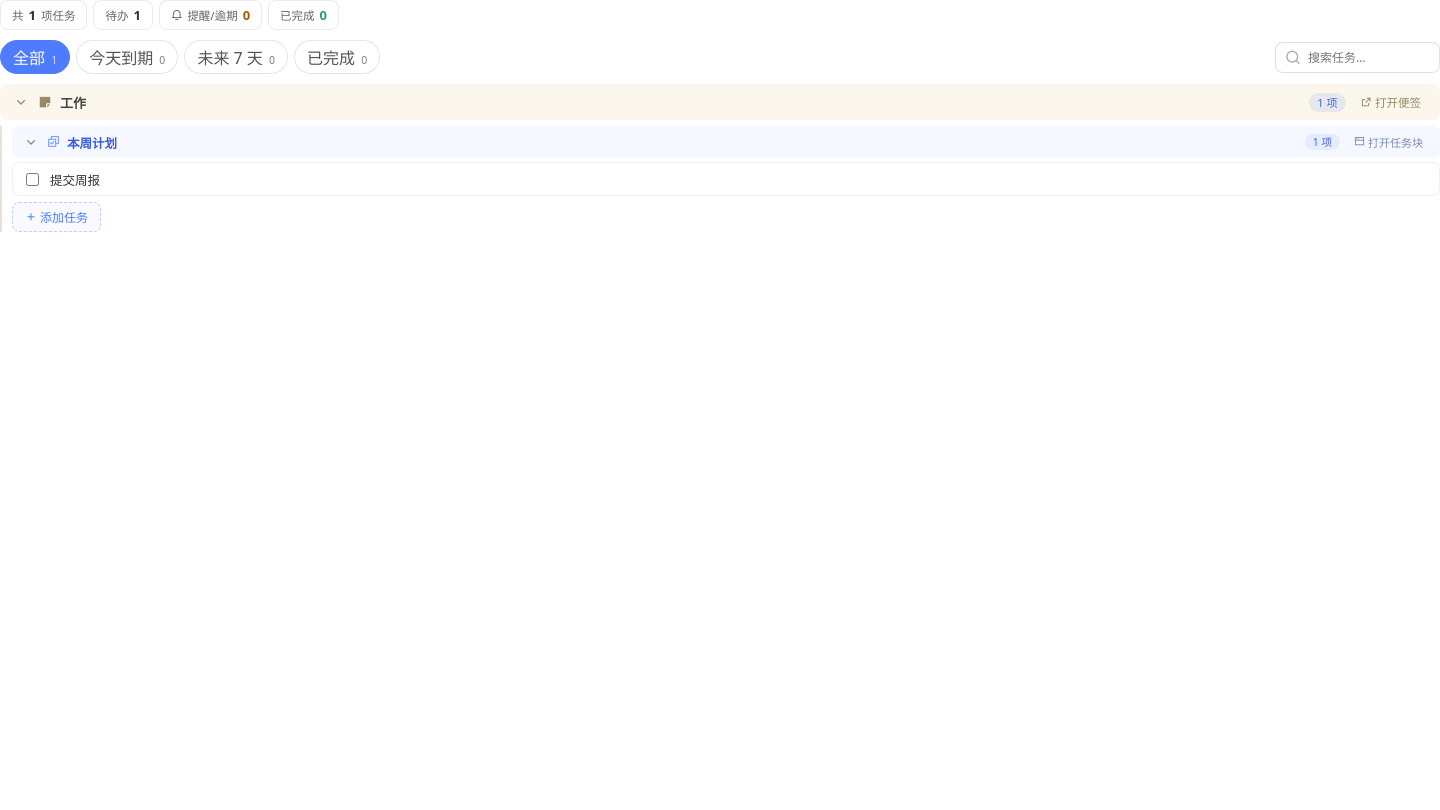
it: TodoOverviewView › 「添加任务」在所属块下新建父任务（parentId = 块 id）
Click the button with class "ov-add-task" at (56, 217), box x1=12 y1=202 x2=101 y2=232
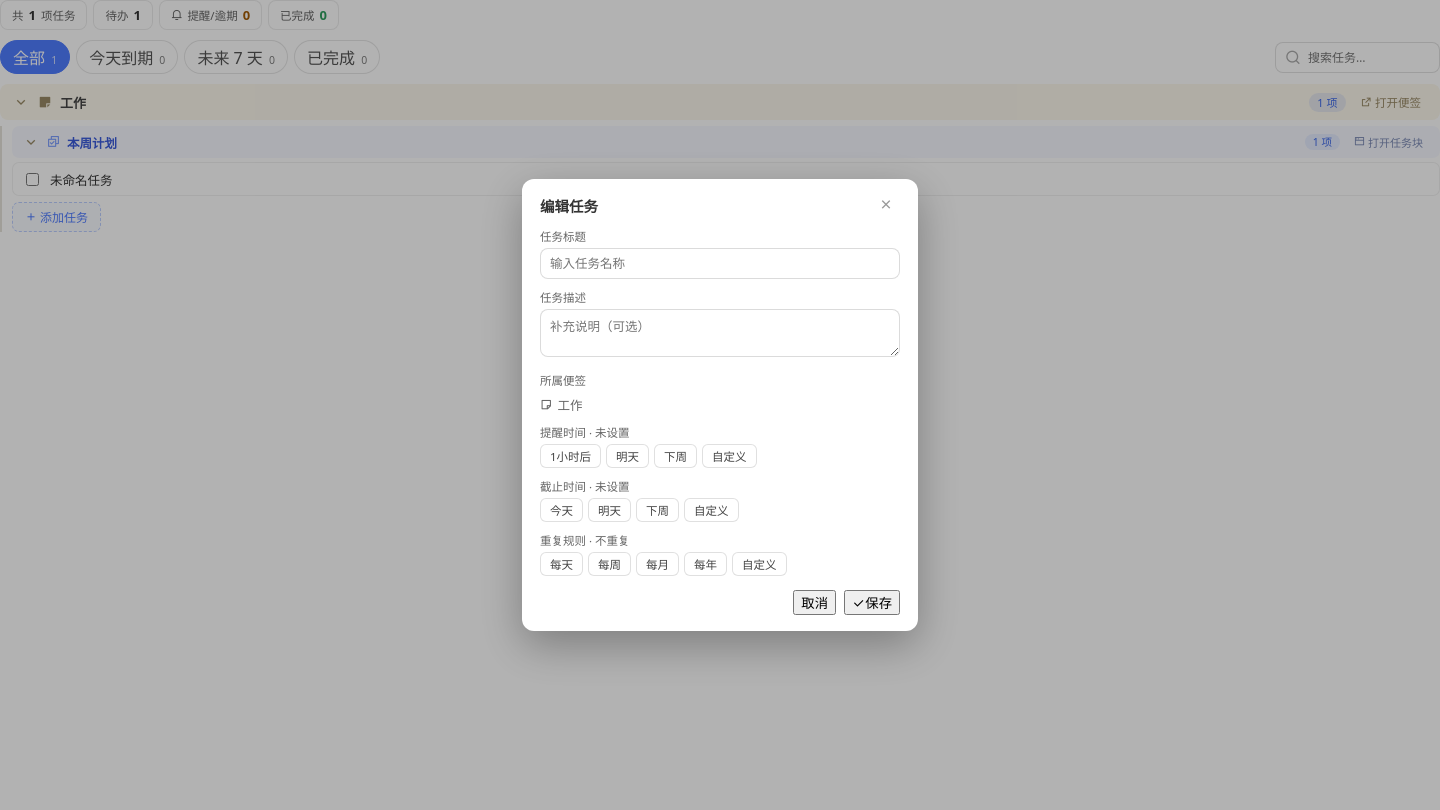
Check: the element with class "ov-sheet" is shown, box x1=522 y1=179 x2=918 y2=631
